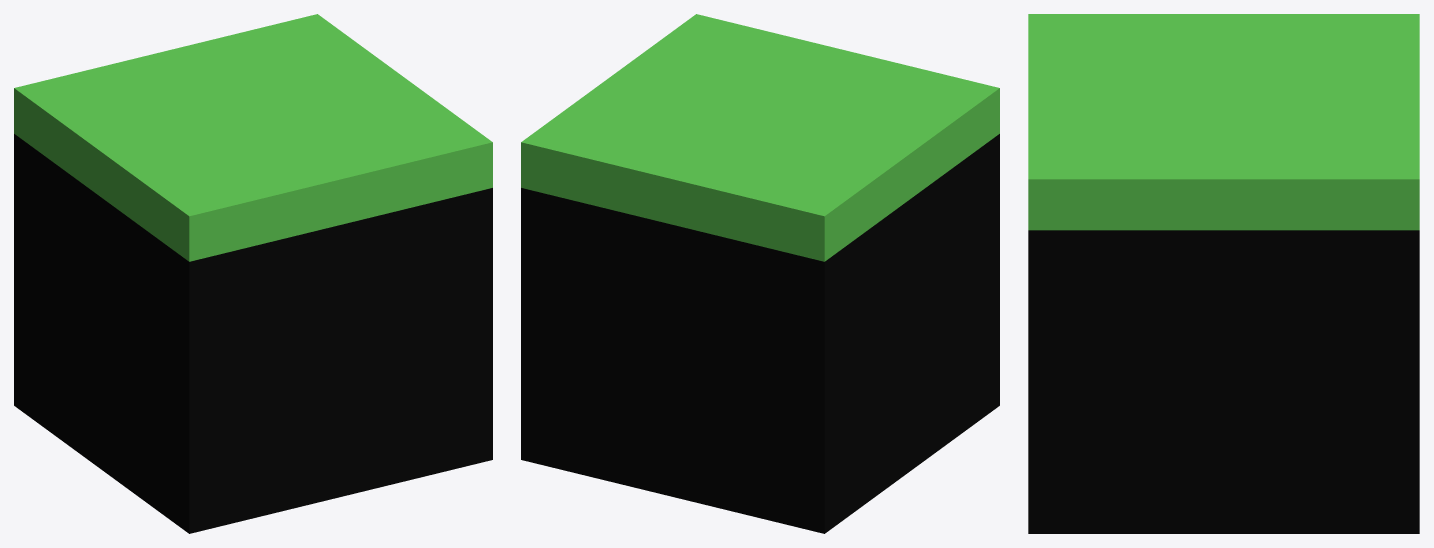
File: Tile-Plains.glb
3 renders of one model, left to right at view 1: azimuth 30°, elevation 25°; view 2: azimuth 150°, elevation 25°; view 3: azimuth 270°, elevation 25°, orthographic. The views are drawn at different scales.
Visible parts, largest first — view 1: Cube; view 2: Cube; view 3: Cube.
Part boxes in pixels (box(x1,y1,x2,y2)): Cube: box(14, 14, 492, 533); Cube: box(521, 14, 999, 533); Cube: box(1028, 14, 1419, 533).
Bounding box in the file's own units: 2 × 2 × 2.
